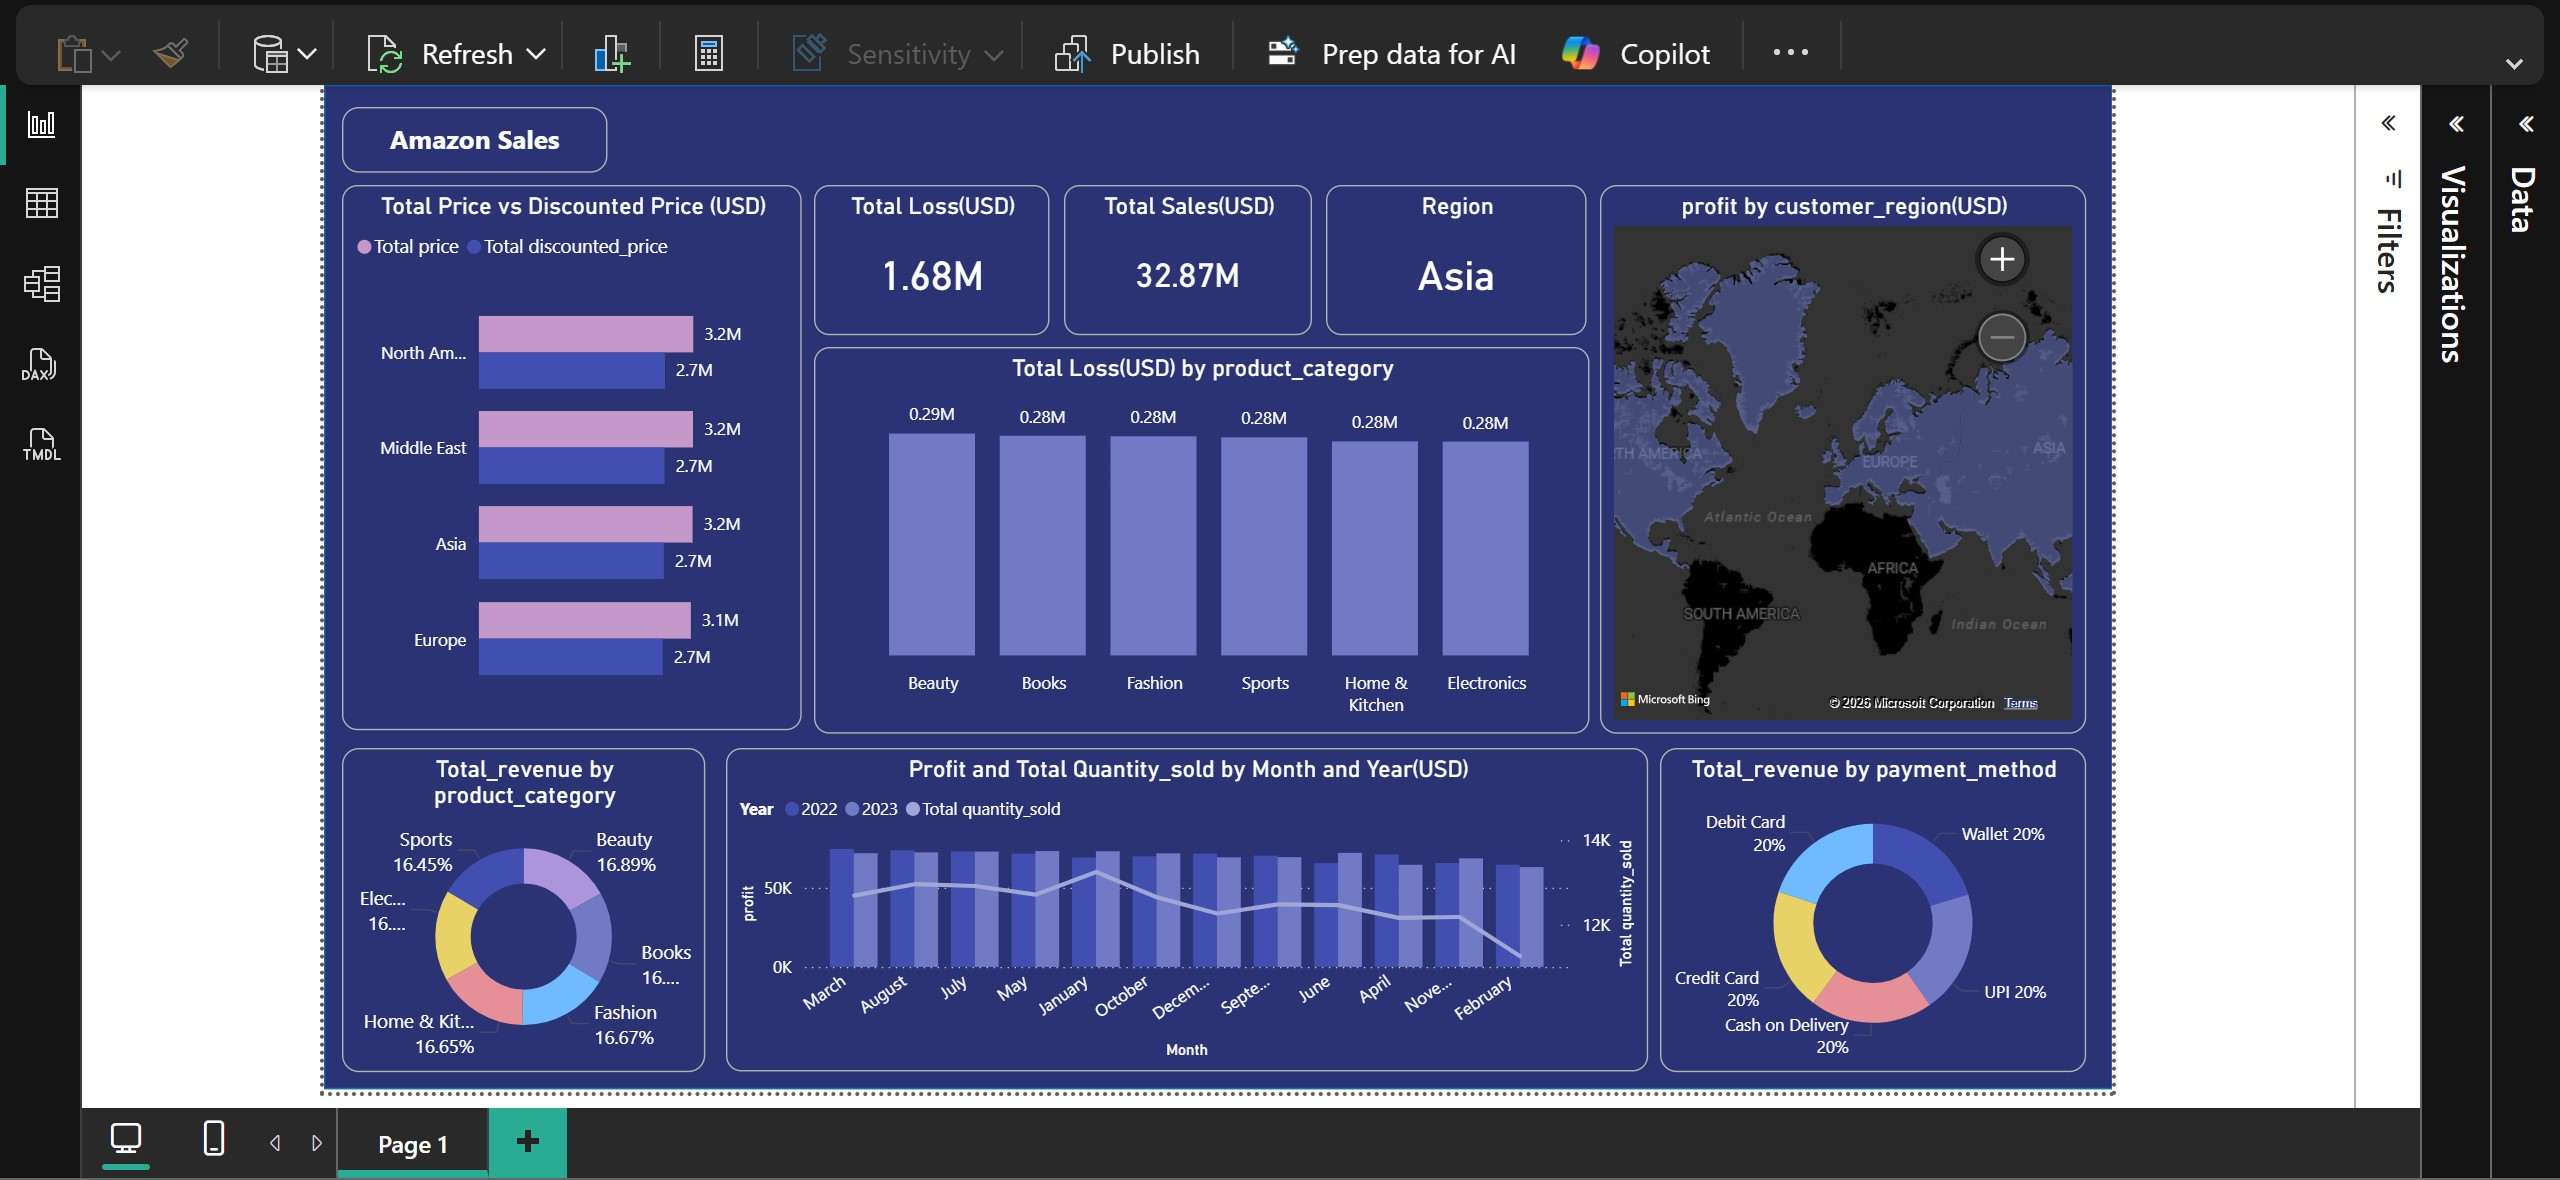

What the dashboard file says about the page in this screenshot:
{"tool":"powerbi","page":{"name":"Page 1","canvas":[1280,720],"ordinal":0},"visuals":[{"type":"shape","box":[0,0,1280,718],"z":0},{"type":"donutChart","fields":{"Y":["Sum(amazon_sales_dataset.total_revenue)"],"Category":["amazon_sales_dataset.product_category"]},"box":[13,474,260,232],"z":1000},{"type":"filledMap","title":"profit by customer_region(USD)","fields":{"Category":["amazon_sales_dataset.customer_region"]},"box":[913.2,71.6,347.8,392.2],"z":2000},{"type":"textbox","box":[13,16,190,47],"z":3000},{"type":"donutChart","title":"Total_revenue by payment_method","fields":{"Category":["amazon_sales_dataset.payment_method"],"Y":["Sum(amazon_sales_dataset.total_revenue)"]},"box":[956.2,473.8,304.9,231.9],"z":4000},{"type":"card","title":"Total Loss(USD)","fields":{"Values":["amazon_sales_dataset.Loss"]},"box":[350.3,71.3,168.3,107.7],"z":5000},{"type":"lineClusteredColumnComboChart","title":"Profit and Total Quantity_sold by Month and Year(USD)","fields":{"Category":["amazon_sales_dataset.Month"],"Y":["amazon_sales_dataset.profit"],"Y2":["Sum(amazon_sales_dataset.quantity_sold)"],"Series":["amazon_sales_dataset.Year"]},"box":[288.3,473.3,660,231.7],"z":6000},{"type":"clusteredBarChart","title":"Total Price vs Discounted Price (USD)","fields":{"Y":["Sum(amazon_sales_dataset.price)","Sum(amazon_sales_dataset.discounted_price)"],"Category":["amazon_sales_dataset.customer_region"]},"box":[12.9,71.6,329.2,389.3],"z":7000},{"type":"clusteredColumnChart","title":"Total Loss(USD) by product_category","fields":{"Category":["amazon_sales_dataset.product_category"],"Y":["amazon_sales_dataset.Loss"]},"box":[350.3,188.1,555.1,276],"z":8000},{"type":"card","title":"Total Sales(USD)","fields":{"Values":["amazon_sales_dataset.Total_sales"]},"box":[529.3,71.3,177.4,107.7],"z":9000},{"type":"card","title":"Region","fields":{"Values":["Min(amazon_sales_dataset.customer_region)"]},"box":[717.3,71.3,186.5,107.7],"z":10000}]}

Visuals, with their boxes on the page's 1280x720 design canvas (x1, y1, x2, y2). These are canvas units, not pixel positions in the 2560x1180 screenshot, which may show the page scaled, cropped or inside an application window:
shape: <bbox>0, 0, 1280, 718</bbox>
donutChart - Sum(amazon_sales_dataset.total_revenue) x amazon_sales_dataset.product_category: <bbox>13, 474, 273, 706</bbox>
"profit by customer_region(USD)" filledMap: <bbox>913, 72, 1261, 464</bbox>
textbox: <bbox>13, 16, 203, 63</bbox>
"Total_revenue by payment_method" donutChart: <bbox>956, 474, 1261, 706</bbox>
"Total Loss(USD)" card: <bbox>350, 71, 519, 179</bbox>
"Profit and Total Quantity_sold by Month and Year(USD)" lineClusteredColumnComboChart: <bbox>288, 473, 948, 705</bbox>
"Total Price vs Discounted Price (USD)" clusteredBarChart: <bbox>13, 72, 342, 461</bbox>
"Total Loss(USD) by product_category" clusteredColumnChart: <bbox>350, 188, 905, 464</bbox>
"Total Sales(USD)" card: <bbox>529, 71, 707, 179</bbox>
"Region" card: <bbox>717, 71, 904, 179</bbox>
